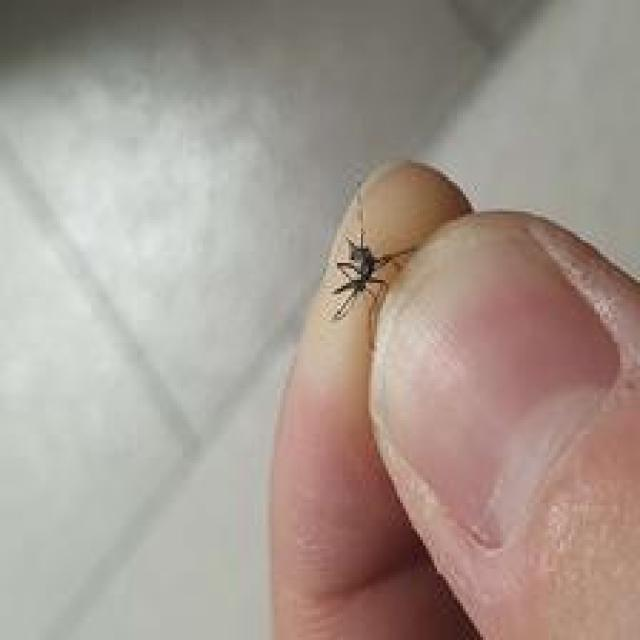Aedes albopictus: (329, 226, 414, 323)
